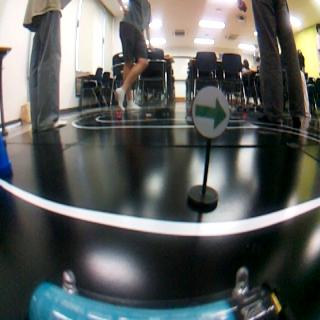right: (192, 87, 227, 135)
